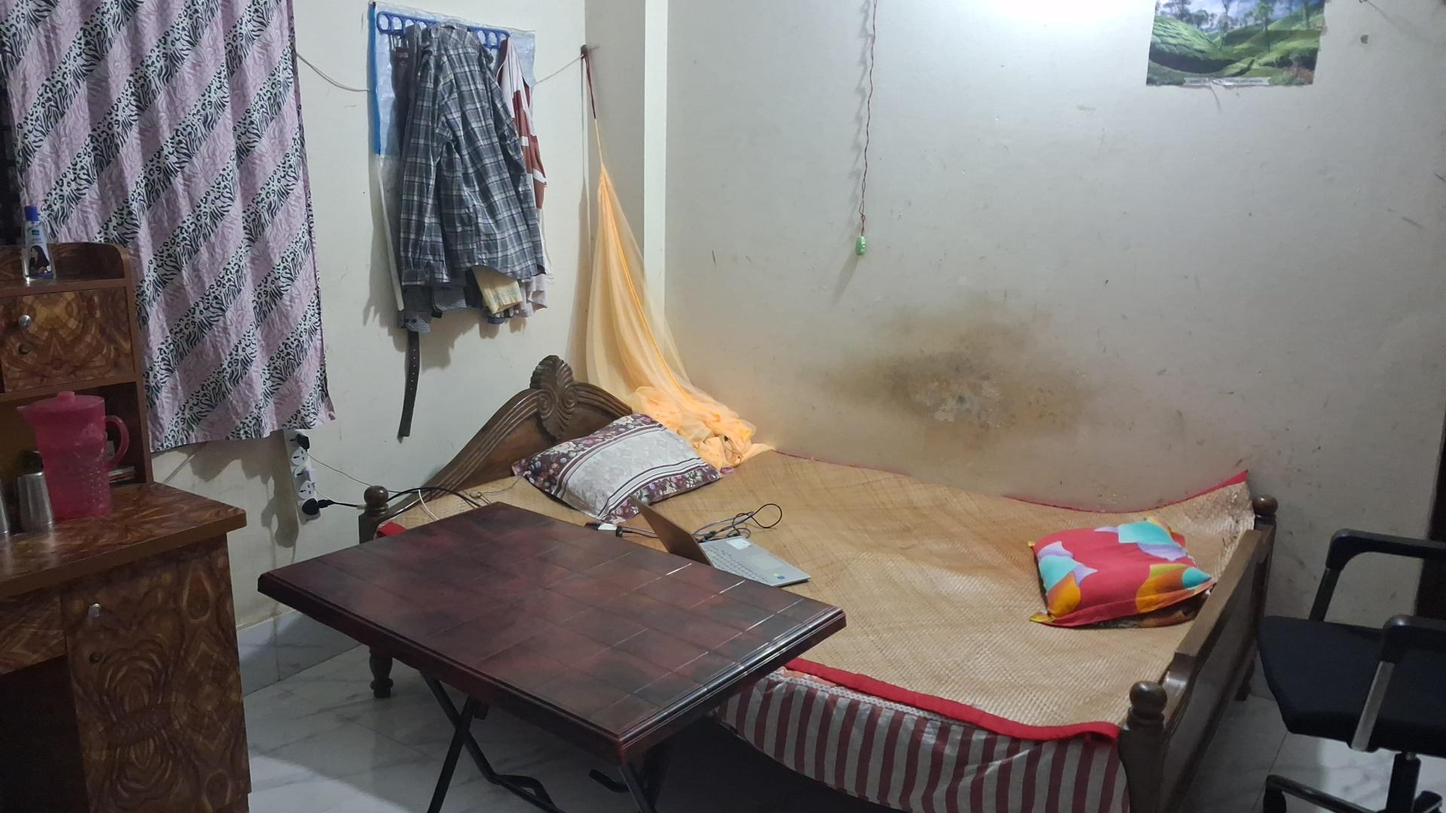Bottle: (17, 204, 63, 285)
Chair: (1256, 525, 1445, 806)
Glass: (16, 472, 62, 533)
Jug: (18, 391, 130, 520)
Laptop: (638, 493, 807, 582)
Pillow: (1033, 518, 1218, 634), (508, 418, 715, 511)
Table: (249, 480, 841, 813)
